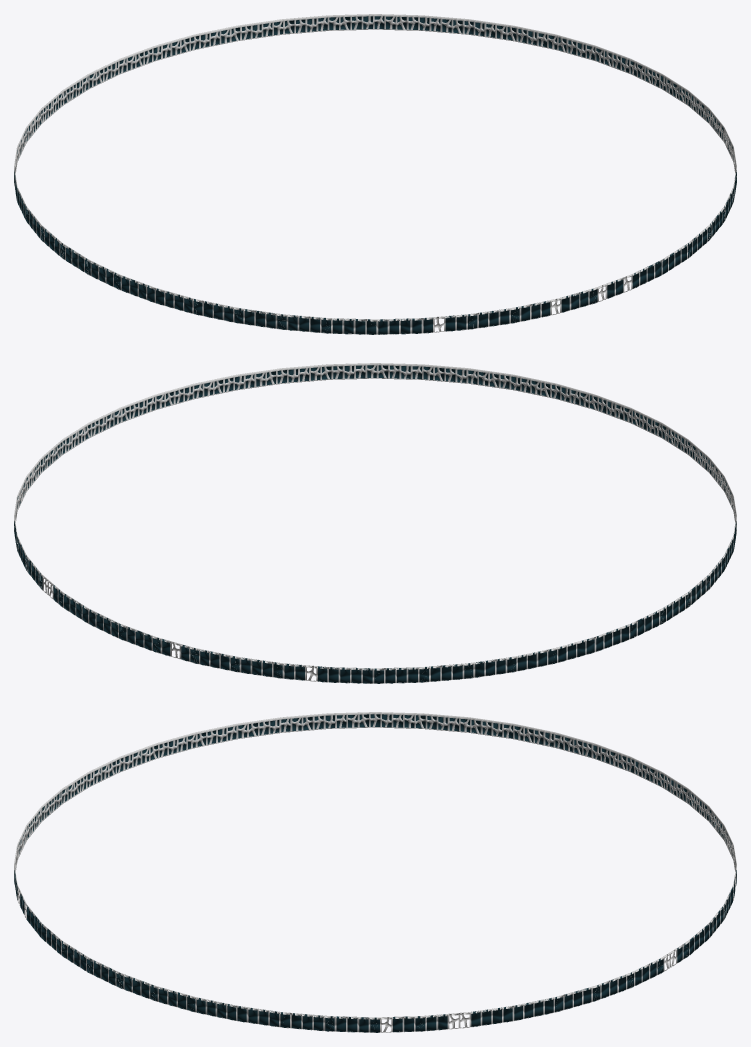
File: Kompan Facade.fbx
3 renders of one model, top to bottom at view 1: azimuth 30°, elevation 25°; view 2: azimuth 150°, elevation 25°; view 3: azimuth 270°, elevation 25°, orthographic.
Parts seen in each view (by area): view 1: Kompan Facade; view 2: Kompan Facade; view 3: Kompan Facade.
Part boxes in pixels (x1=…): Kompan Facade: x1=14, y1=14, x2=736, y2=334; Kompan Facade: x1=14, y1=363, x2=736, y2=683; Kompan Facade: x1=14, y1=712, x2=736, y2=1032.
Size of the model in its own units: 10195 by 240 by 10195.
